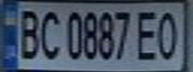0: (63, 7, 84, 61)
7: (112, 7, 136, 61)
8: (97, 7, 118, 61), (81, 7, 100, 61)
B: (12, 4, 42, 61)
C: (36, 7, 63, 61)
E: (133, 7, 163, 61)
O: (151, 7, 184, 61)
